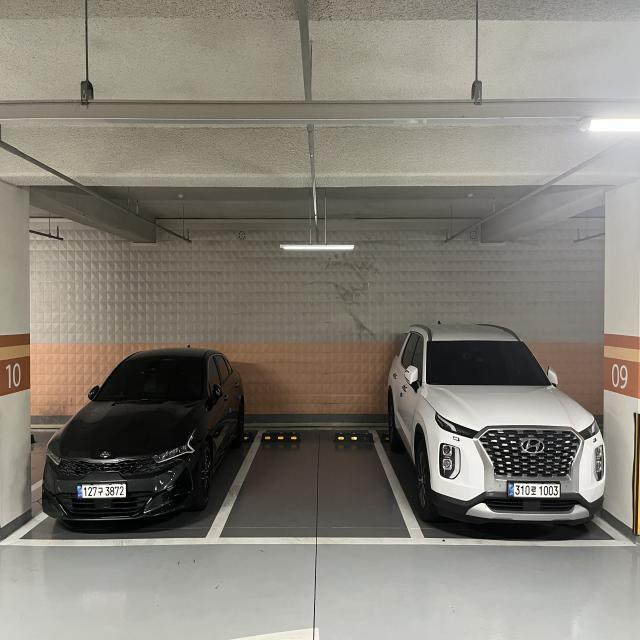empty: (197, 419, 432, 549)
occupied: (402, 311, 617, 559), (39, 339, 212, 559)
